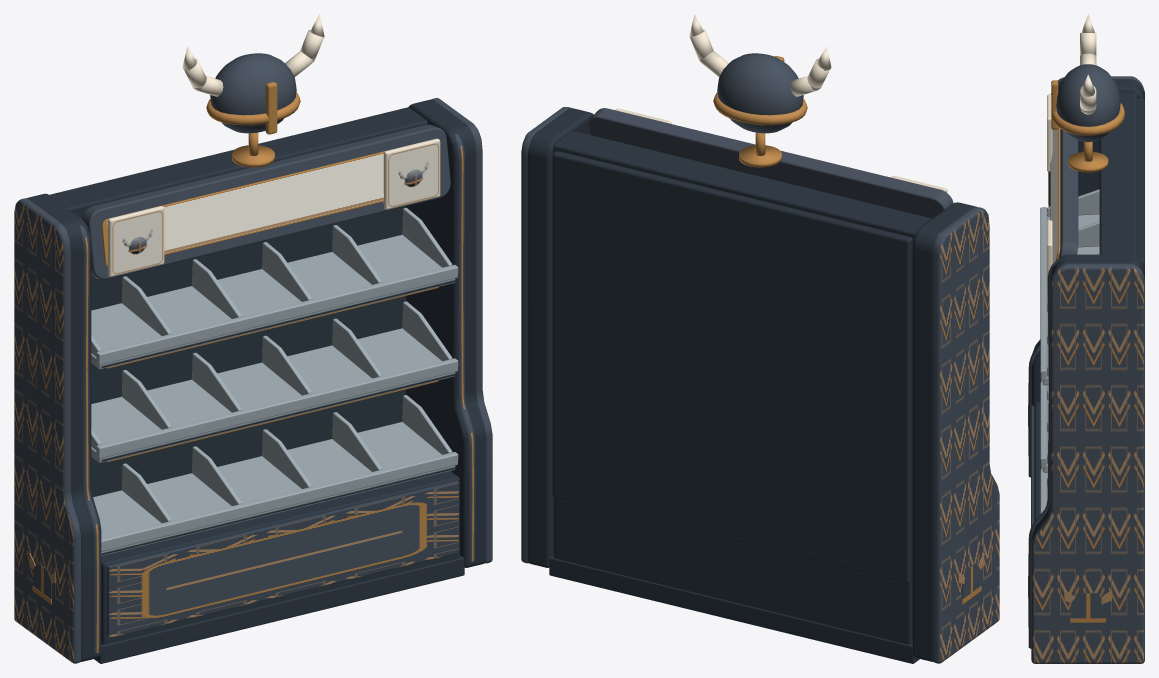
The model's file is TH_VIKING_LEGENDS.fbx.
The picture shows the model from 3 angles, left to right: view 1: azimuth 30°, elevation 25°; view 2: azimuth 150°, elevation 25°; view 3: azimuth 270°, elevation 25°; orthographic projection. The views are drawn at different scales.
Visible parts, largest first — view 1: BaseFrontInset, Left_PaintedPanel, BackPanel.001, Right_StructuralWall, Tray_01, Tray_02, Tray_03, HeaderFace, HeaderBorder, TopCrossRail, Left_StructuralWall, ClosedSolidBase (+34 smaller); view 2: BackPanel.001, Left_PaintedPanel, ClosedSolidBase, Right_StructuralWall, HeaderBorder, Left_StructuralWall, TopCrossRail, LowerPlinth, Viking helmet, Right_PaintedPanel, Helmet rim, TopperMount; view 3: Right_PaintedPanel, TopCrossRail, Viking helmet, HeaderBorder, Left_StructuralWall, BackPanel.001, HeaderFace, FrontLip_01, RightHousing, Right_StructuralWall, Helmet rim, ClosedSolidBase (+16 smaller).
Boxes of the visible parts, <box> form: BaseFrontInset: <box>107,480,458,638</box>; Left_PaintedPanel: <box>14,198,80,663</box>; BackPanel.001: <box>91,206,405,497</box>; Right_StructuralWall: <box>406,99,486,567</box>; Tray_01: <box>91,234,455,369</box>; Tray_02: <box>91,328,455,462</box>; Tray_03: <box>93,422,455,556</box>; HeaderFace: <box>101,141,424,266</box>; HeaderBorder: <box>82,124,450,279</box>; TopCrossRail: <box>49,107,427,218</box>; Left_StructuralWall: <box>27,193,101,661</box>; ClosedSolidBase: <box>101,471,459,644</box>; BackPanel.001: <box>552,151,912,583</box>; Left_PaintedPanel: <box>933,207,999,663</box>; ClosedSolidBase: <box>554,497,912,644</box>; Right_StructuralWall: <box>527,108,593,567</box>; HeaderBorder: <box>589,108,953,218</box>; Left_StructuralWall: <box>912,202,976,661</box>; TopCrossRail: <box>553,131,931,242</box>; LowerPlinth: <box>549,555,919,663</box>; Viking helmet: <box>717,53,803,133</box>; Right_PaintedPanel: <box>521,107,571,563</box>; Helmet rim: <box>713,92,807,125</box>; TopperMount: <box>739,145,781,167</box>; Right_PaintedPanel: <box>1031,263,1144,663</box>; TopCrossRail: <box>1099,92,1137,256</box>; Viking helmet: <box>1056,64,1120,142</box>; HeaderBorder: <box>1059,129,1078,257</box>; Left_StructuralWall: <box>1031,79,1144,405</box>; BackPanel.001: <box>1137,98,1144,269</box>; HeaderFace: <box>1050,127,1060,263</box>; FrontLip_01: <box>1040,207,1047,380</box>; RightHousing: <box>1028,259,1059,648</box>; Right_StructuralWall: <box>1031,254,1144,542</box>; Helmet rim: <box>1051,103,1125,135</box>; ClosedSolidBase: <box>1034,402,1040,522</box>.
Bounding box in the file's own units: 3.62 × 4.65 × 0.9273.
